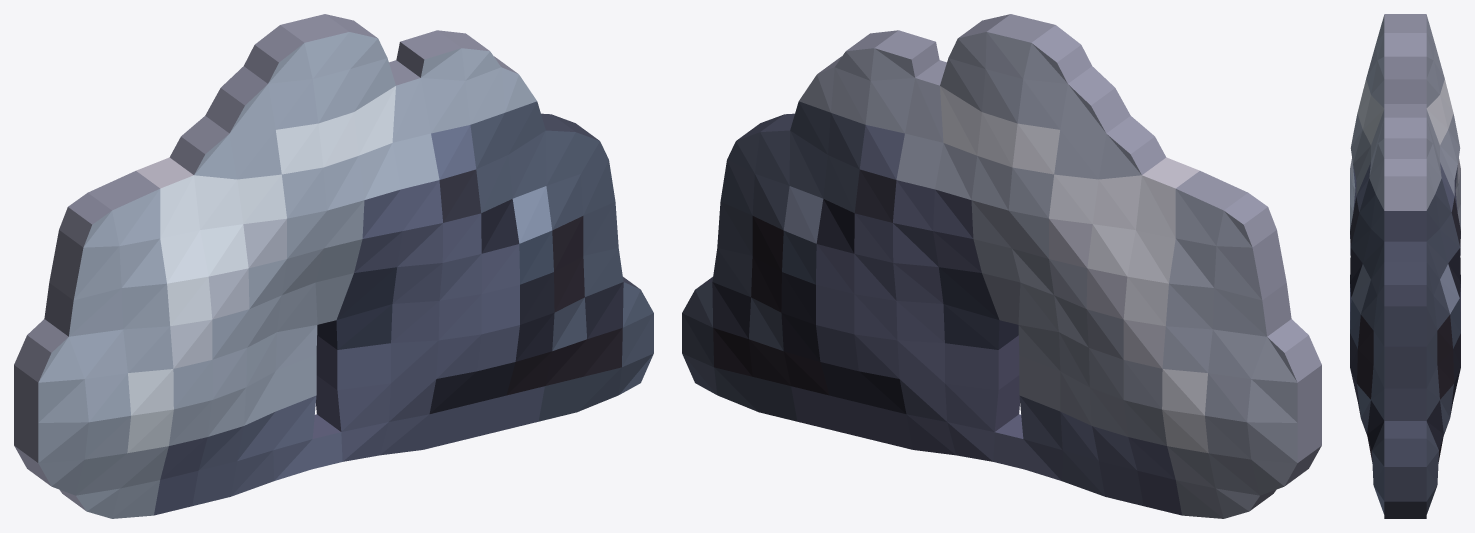
File: saw_blade_trap.glb
3 renders of one model, left to right at view 1: azimuth 30°, elevation 25°; view 2: azimuth 150°, elevation 25°; view 3: azimuth 270°, elevation 25°, orthographic. The views are drawn at different scales.
Parts seen in each view (by area): view 1: saw_blade_trap; view 2: saw_blade_trap; view 3: saw_blade_trap.
Part boxes in pixels (left/top/right/bottom): saw_blade_trap: left=14, top=14, right=653, bottom=518; saw_blade_trap: left=682, top=14, right=1321, bottom=518; saw_blade_trap: left=1350, top=14, right=1460, bottom=518.
Bounding box in the file's own units: 1 × 0.6768 × 0.1813.
1 material, 1 textured.
